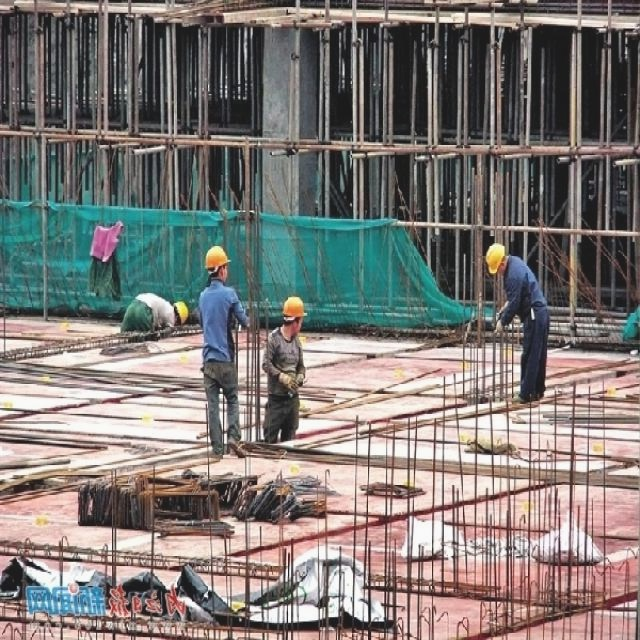Con_Casco: (281, 293, 307, 336), (204, 244, 231, 276), (484, 242, 507, 279)
